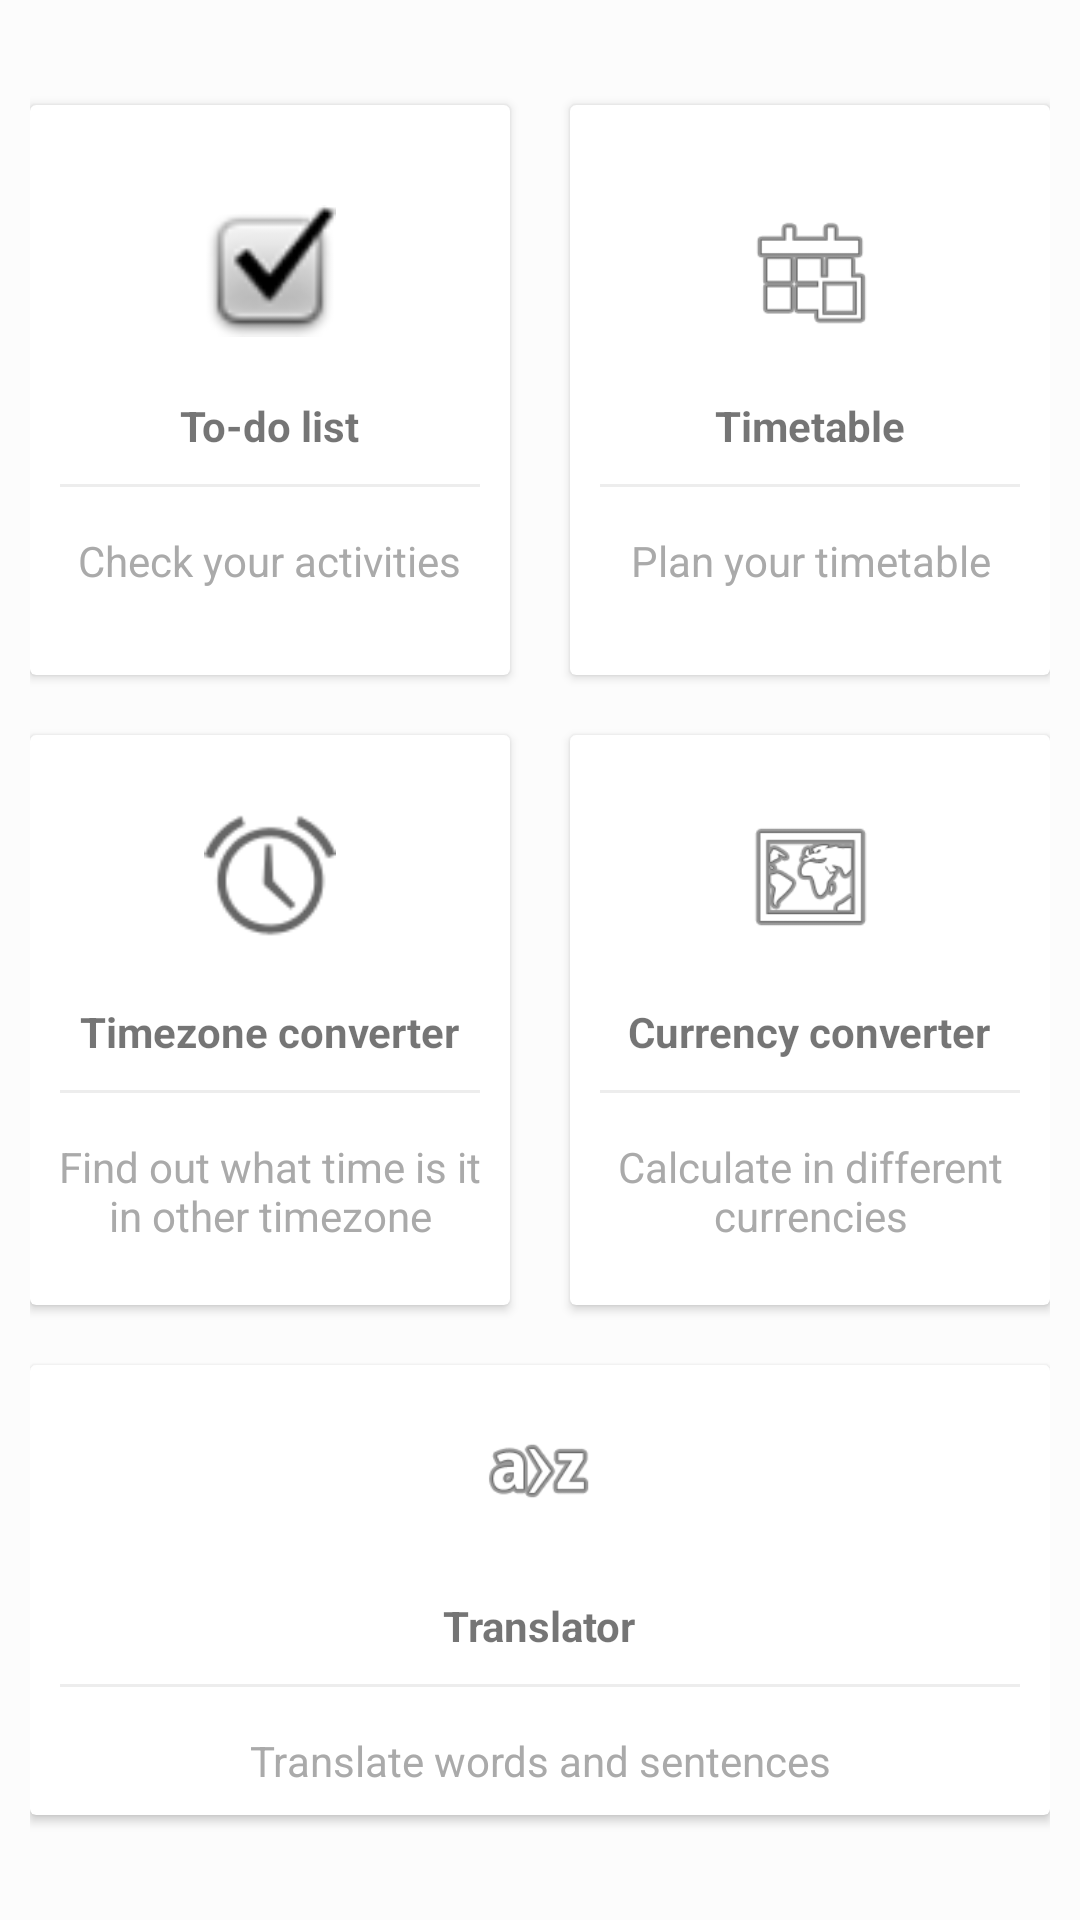

Icon click points for this 1080*1920 phone screenshot, format [x,y]:
lock idle alarm: [270,875]
mapmode: [810,877]
sort alphabetically: [538,1471]
today: [811,273]
